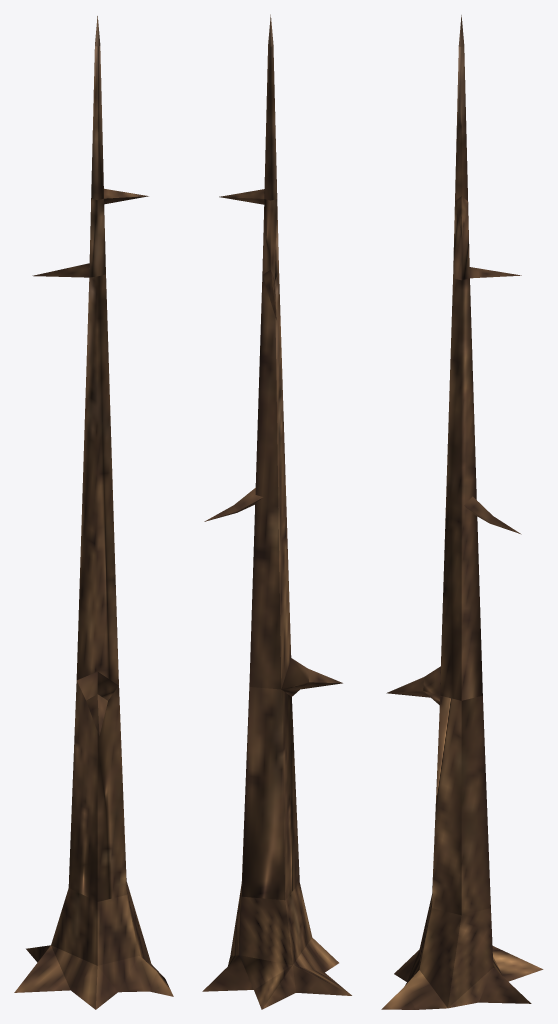
File: e_tree_6.FBX
3 views of the same model, side by side, from view 1: azimuth 30°, elevation 25°; view 2: azimuth 150°, elevation 25°; view 3: azimuth 270°, elevation 25° (orthographic).
Visible parts, largest first — view 1: polySurface414; view 2: polySurface414; view 3: polySurface414.
Part boxes in pixels (<box>): polySurface414: <box>14,16,173,1009</box>; polySurface414: <box>202,14,351,1009</box>; polySurface414: <box>381,15,543,1009</box>.
Bounding box in the file's own units: 28.69 × 29.48 × 196.
